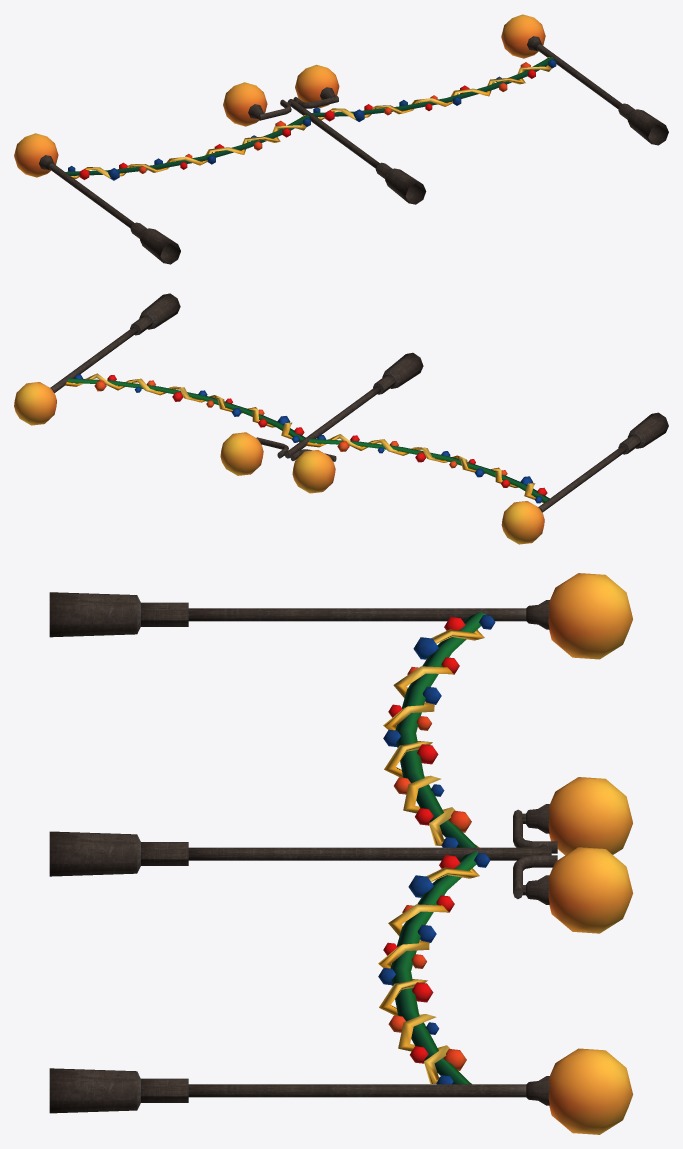
The model's file is StreetLight_Garland_C.fbx.
The picture shows the model from 3 angles, top to bottom: view 1: azimuth 30°, elevation 25°; view 2: azimuth 150°, elevation 25°; view 3: azimuth 270°, elevation 25°; orthographic projection. The views are drawn at different scales.
Parts seen in each view (by area): view 1: StreetLight_Garland_C; view 2: StreetLight_Garland_C; view 3: StreetLight_Garland_C.
Boxes of the visible parts, x1,y1,x2,y2 form: StreetLight_Garland_C: (14, 14, 668, 264); StreetLight_Garland_C: (14, 293, 668, 544); StreetLight_Garland_C: (49, 573, 633, 1134).
Bounding box in the file's own units: 1.57 × 0.1154 × 0.7543.
